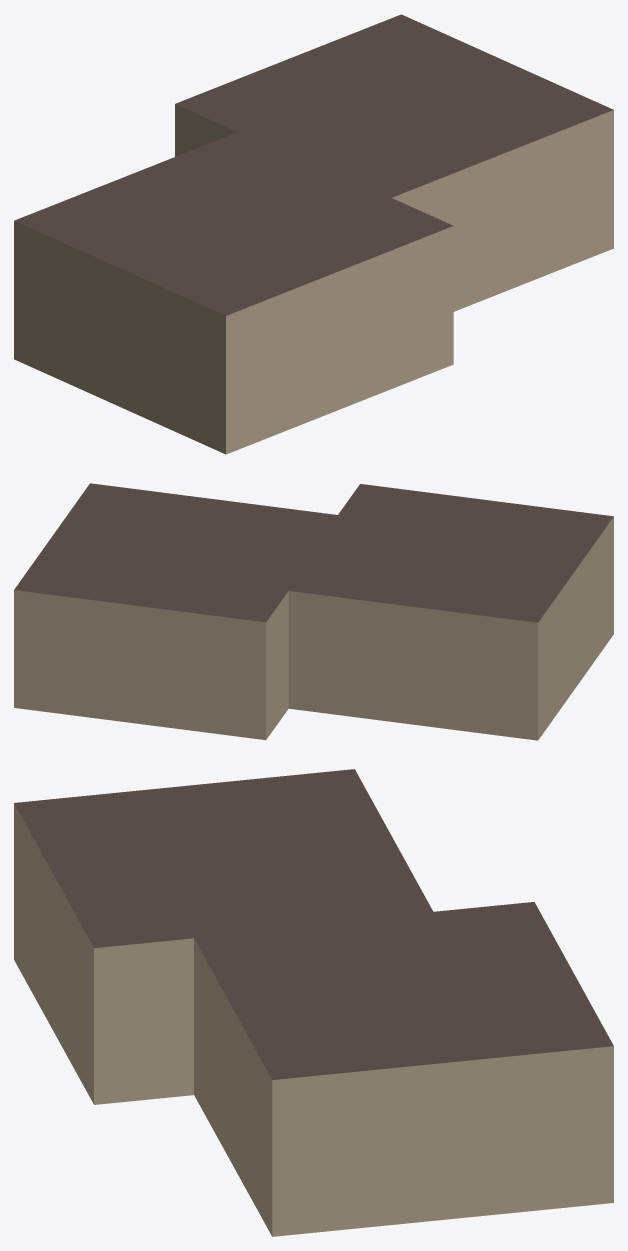
3 renders of one model, top to bottom at view 1: azimuth 30°, elevation 25°; view 2: azimuth 150°, elevation 25°; view 3: azimuth 270°, elevation 25°, orthographic. The views are drawn at different scales.
Parts seen in each view (by area): view 1: HP-w293398929; view 2: HP-w293398929; view 3: HP-w293398929.
Part boxes in pixels (<box>): HP-w293398929: <box>14,14,613,454</box>; HP-w293398929: <box>14,483,613,740</box>; HP-w293398929: <box>14,769,613,1236</box>.
Size of the model in its own units: 38.29 by 9 by 31.21.
